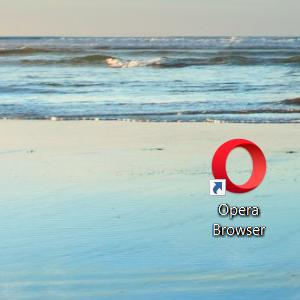opera: (209, 138, 267, 196)
